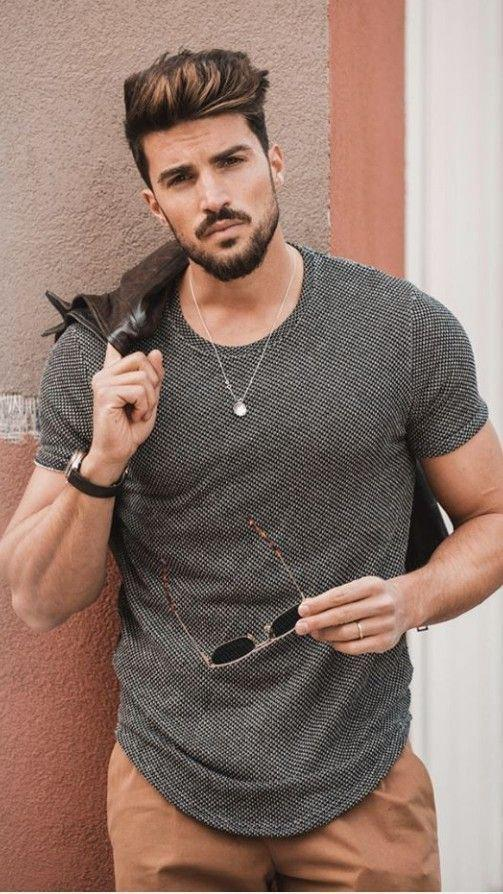Sober: (147, 108, 272, 265)
